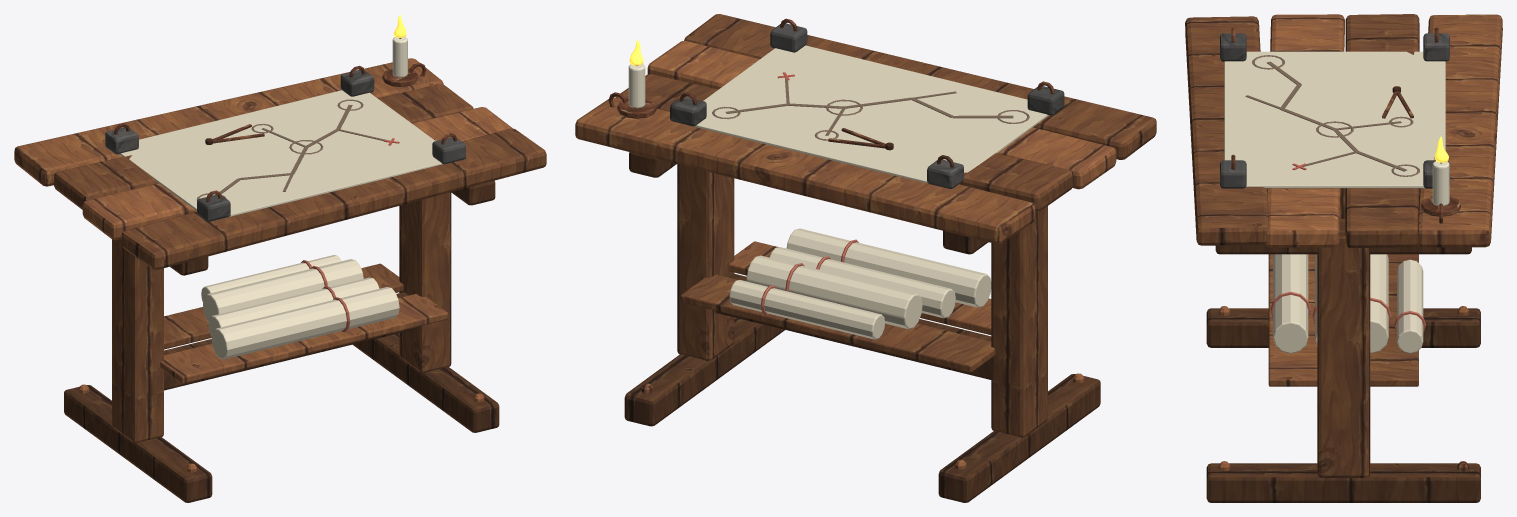
File: hm_map_table.glb
3 renders of one model, left to right at view 1: azimuth 30°, elevation 25°; view 2: azimuth 150°, elevation 25°; view 3: azimuth 270°, elevation 25°, orthographic. The views are drawn at different scales.
Visible parts, largest first — view 1: model; view 2: model; view 3: model.
Part boxes in pixels (x1=…): model: x1=14, y1=14, x2=546, y2=502; model: x1=575, y1=14, x2=1156, y2=502; model: x1=1185, y1=14, x2=1502, y2=502.
Bounding box in the file's own units: 1.16 × 0.927 × 0.7185.
15 materials, 7 textured.
